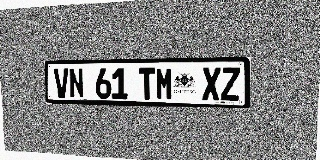1: (111, 68, 128, 99)
6: (95, 68, 111, 99)
M: (156, 68, 173, 100)
N: (69, 68, 84, 98)
T: (139, 68, 156, 100)
V: (54, 68, 69, 98)
X: (202, 67, 221, 101)
Z: (221, 67, 240, 101)
